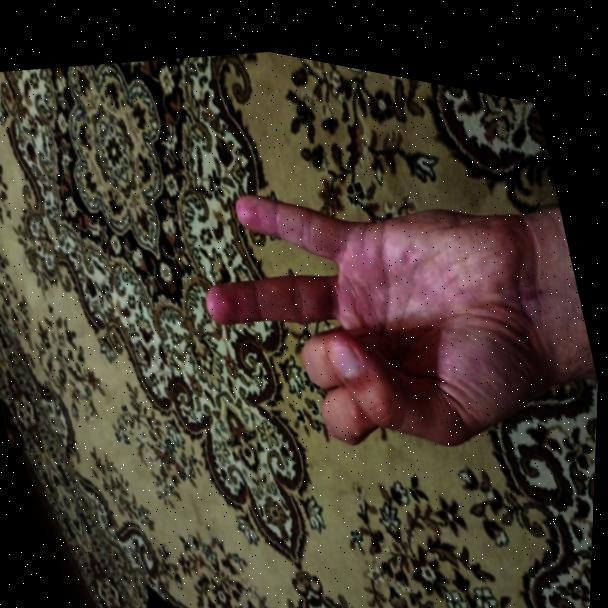five: (161, 71, 606, 513)
